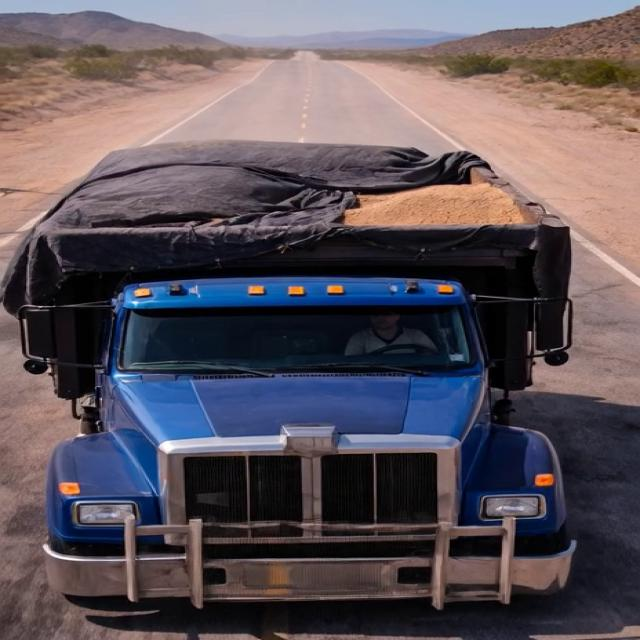Box: (50, 137, 569, 234)
Truck: (13, 107, 604, 618)
